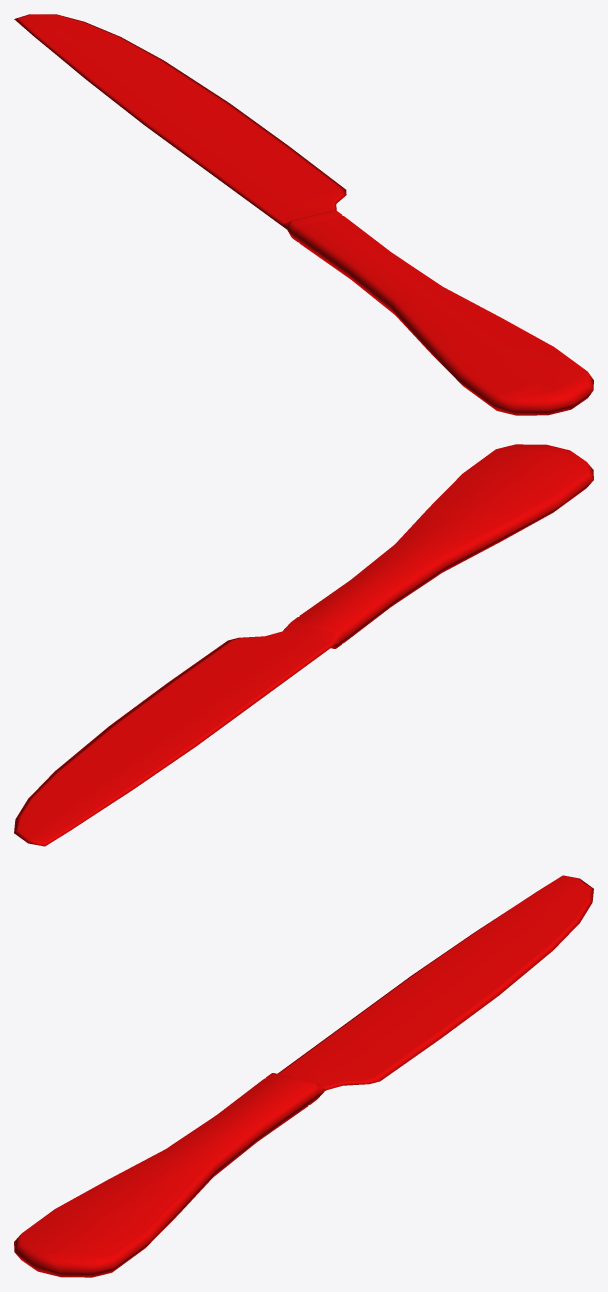
Rendered from thorkea_butter_knives_grp.fbx.
3 renders of one model, top to bottom at view 1: azimuth 30°, elevation 25°; view 2: azimuth 150°, elevation 25°; view 3: azimuth 330°, elevation 25°, orthographic.
Visible parts, largest first — view 1: thorkea_butter_knife_ai2_1; view 2: thorkea_butter_knife_ai2_1; view 3: thorkea_butter_knife_ai2_1.
Part boxes in pixels (x1,y1,x2,y2): thorkea_butter_knife_ai2_1: [14, 14, 593, 415]; thorkea_butter_knife_ai2_1: [14, 444, 593, 846]; thorkea_butter_knife_ai2_1: [14, 875, 593, 1277].
Bounding box in the file's own units: 2.93 × 0.4235 × 23.98.
